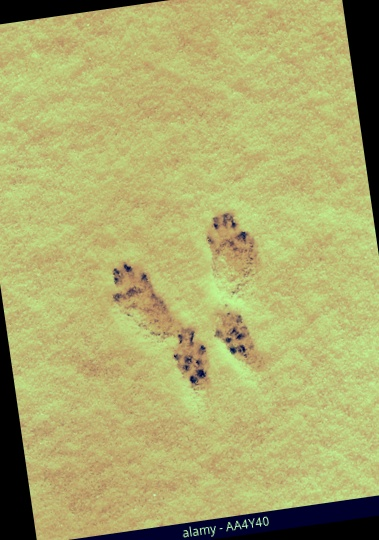ecureuil: (90, 239, 215, 411), (197, 208, 267, 306), (203, 301, 275, 372)
